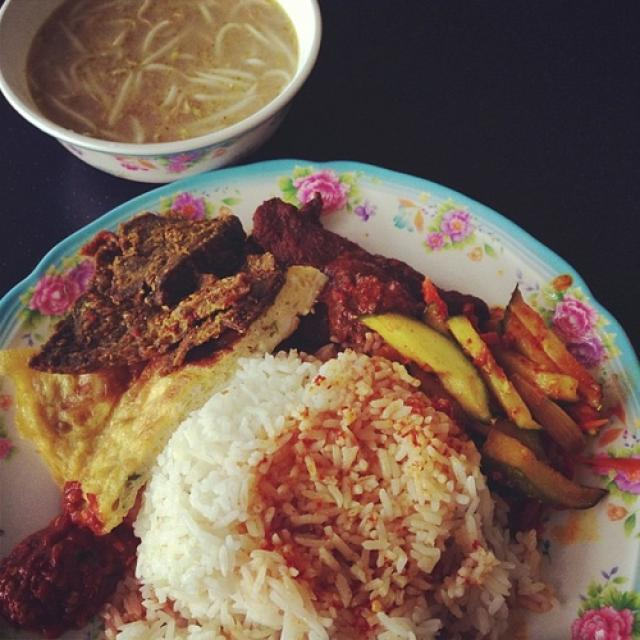米饭主食: (11, 23, 621, 616)
